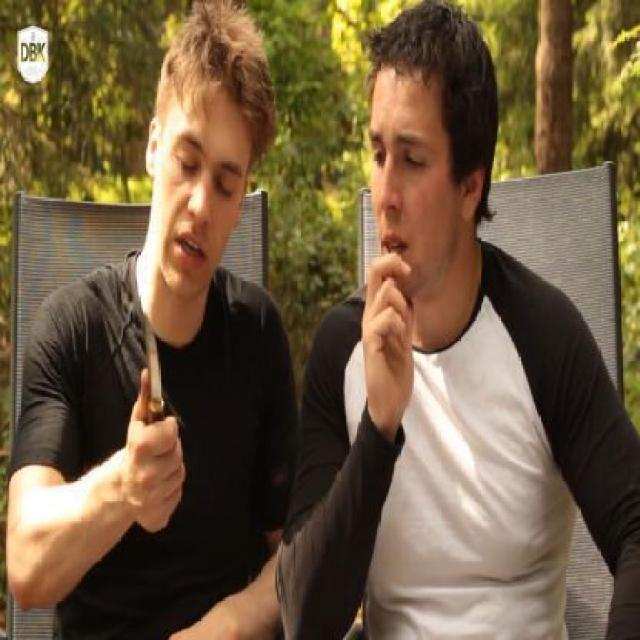-: (123, 280, 188, 498)
